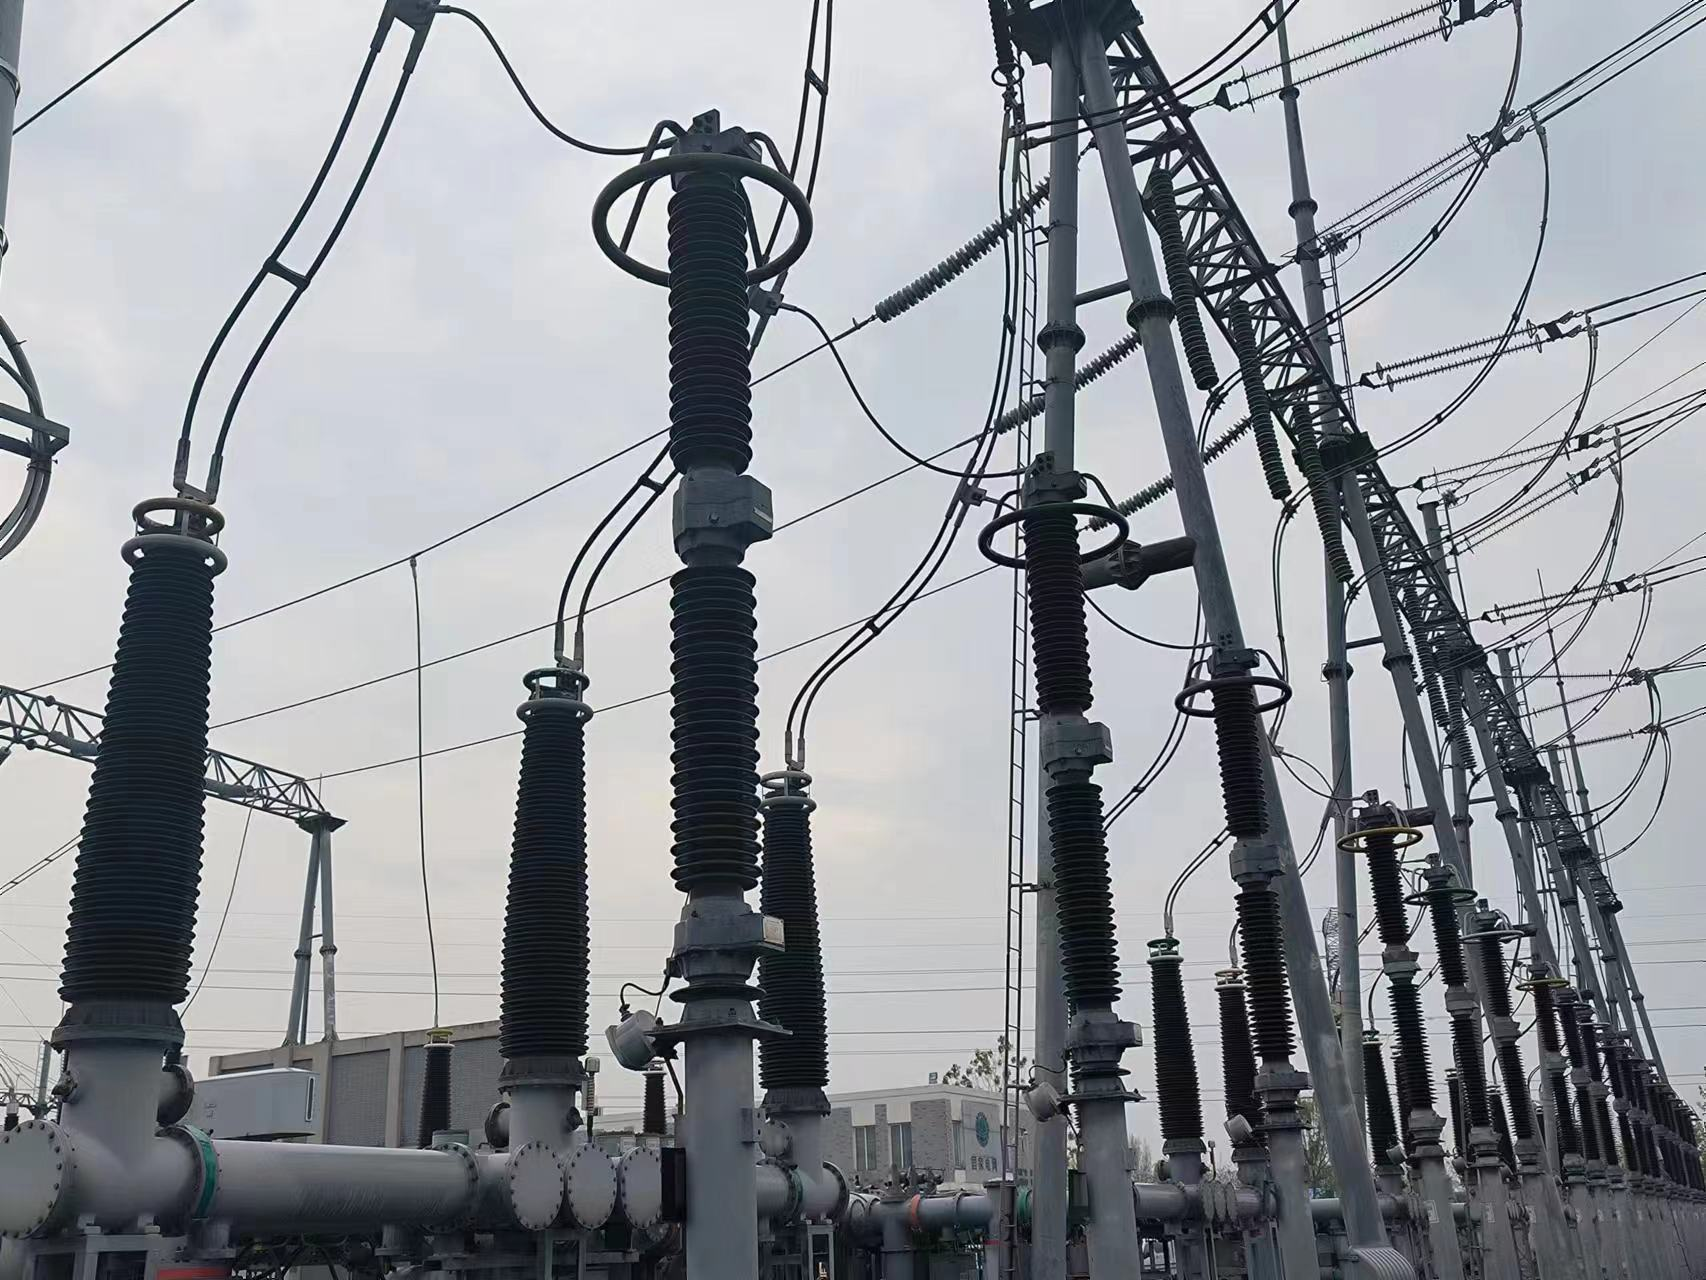Arrester: (589, 117, 813, 973), (975, 450, 1132, 1072), (1170, 647, 1311, 1101)
Voltage transformer: (48, 497, 229, 1065), (492, 670, 596, 1092), (756, 766, 832, 1119)
